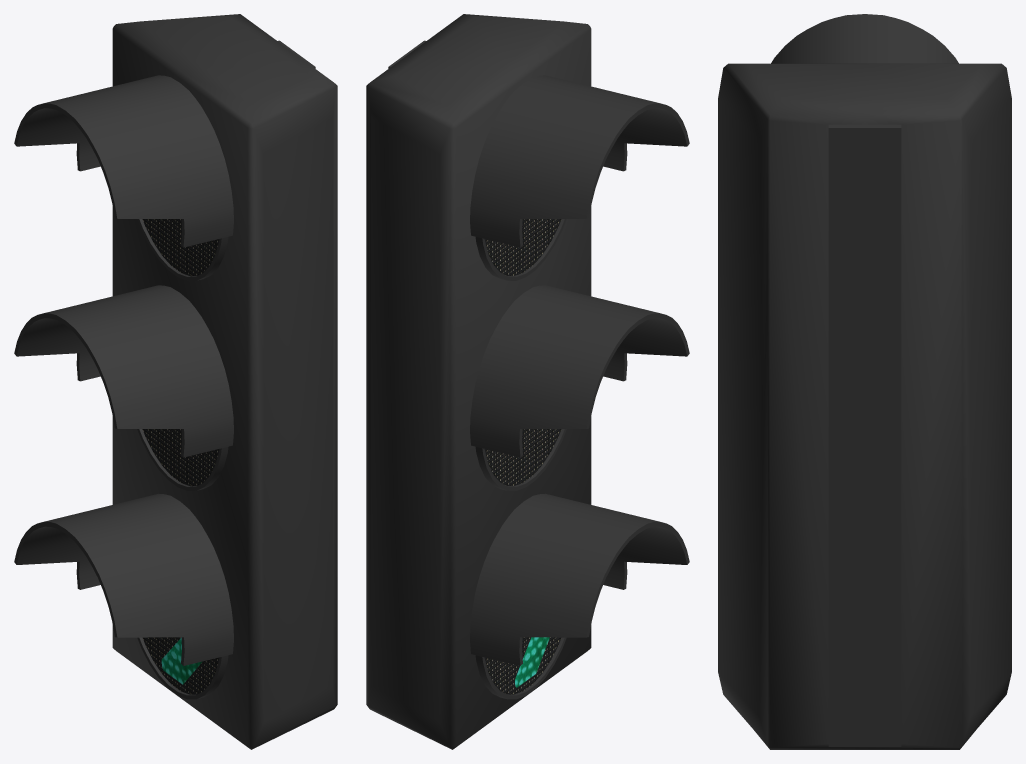
File: 竖排右转灯_GreenLight.fbx
3 renders of one model, left to right at view 1: azimuth 30°, elevation 25°; view 2: azimuth 150°, elevation 25°; view 3: azimuth 270°, elevation 25°, orthographic.
Visible parts, largest first — view 1: 竖排右转灯_GreenLight; view 2: 竖排右转灯_GreenLight; view 3: 竖排右转灯_GreenLight.
Boxes of the visible parts, left/top/right/bottom form: 竖排右转灯_GreenLight: left=14, top=14, right=337, bottom=749; 竖排右转灯_GreenLight: left=366, top=14, right=689, bottom=749; 竖排右转灯_GreenLight: left=718, top=14, right=1011, bottom=749.
Bounding box in the file's own units: 0.6 × 1.58 × 0.65.
3 materials, 2 textured.
